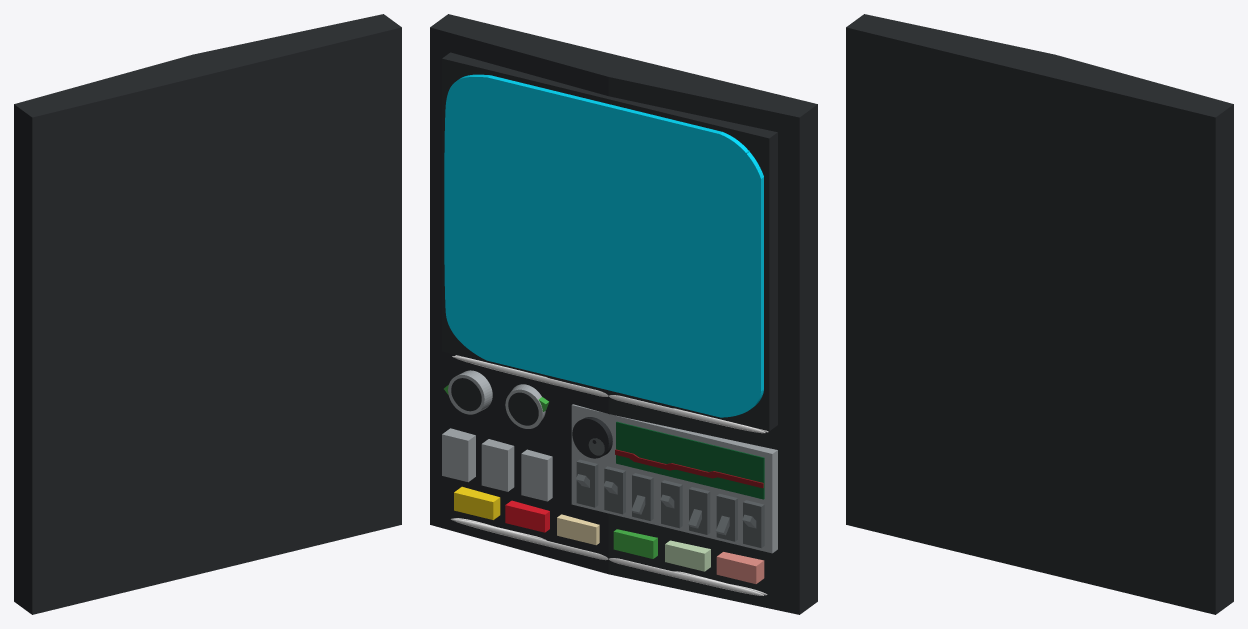
File: tinker.obj
3 views of the same model, side by side, from view 1: azimuth 30°, elevation 25°; view 2: azimuth 150°, elevation 25°; view 3: azimuth 330°, elevation 25° (orthographic).
Visible parts, largest first — view 1: obj_6; view 2: obj_0, obj_6, obj_1, obj_8, obj_26, obj_17, obj_18, obj_2, obj_3, obj_4, obj_16, obj_11 (+17 smaller); view 3: obj_6.
Boxes of the visible parts, <box> form: obj_6: <box>14,14,401,614</box>; obj_0: <box>444,74,763,417</box>; obj_6: <box>430,14,817,614</box>; obj_1: <box>442,52,777,431</box>; obj_8: <box>571,404,777,553</box>; obj_26: <box>616,421,764,499</box>; obj_17: <box>451,518,764,595</box>; obj_18: <box>452,356,765,433</box>; obj_2: <box>442,428,475,482</box>; obj_3: <box>481,439,514,491</box>; obj_4: <box>521,449,552,501</box>; obj_16: <box>716,552,764,583</box>; obj_11: <box>454,486,500,519</box>; obj_6: <box>846,14,1233,614</box>.
Bounding box in the file's own units: 70 × 90 × 11.
